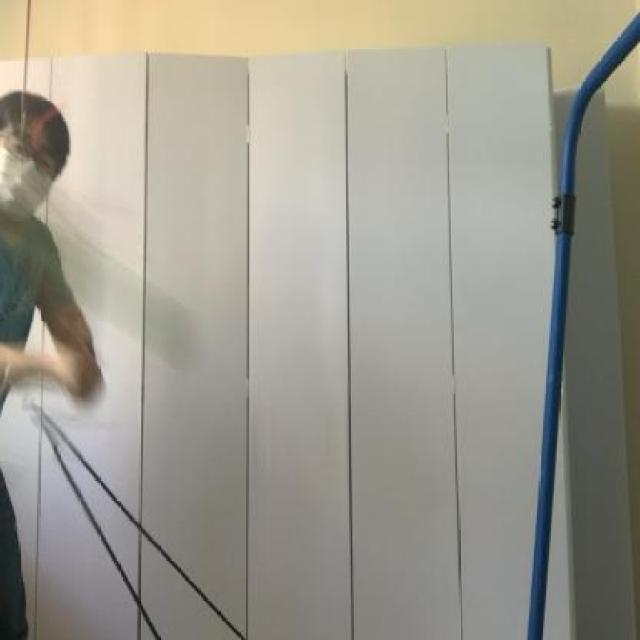baseball: (18, 202, 202, 372)
